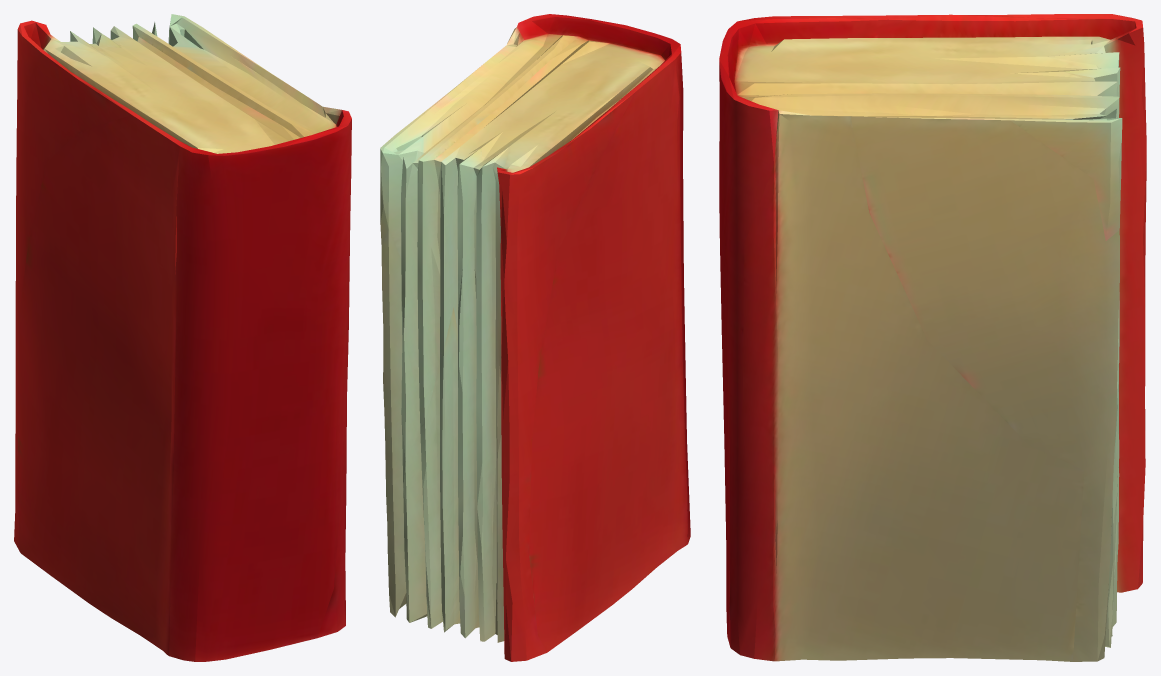
File: book.glb
3 renders of one model, left to right at view 1: azimuth 30°, elevation 25°; view 2: azimuth 150°, elevation 25°; view 3: azimuth 270°, elevation 25°, orthographic. The views are drawn at different scales.
Visible parts, largest first — view 1: model; view 2: model; view 3: model.
Boxes of the visible parts, box(x1,y1,x2,y2) form: model: box(14, 14, 351, 661); model: box(380, 14, 690, 661); model: box(719, 14, 1146, 661).
Bounding box in the file's own units: 0.6961 × 1.9 × 1.3.
Materials: 1 (1 with a texture image).
